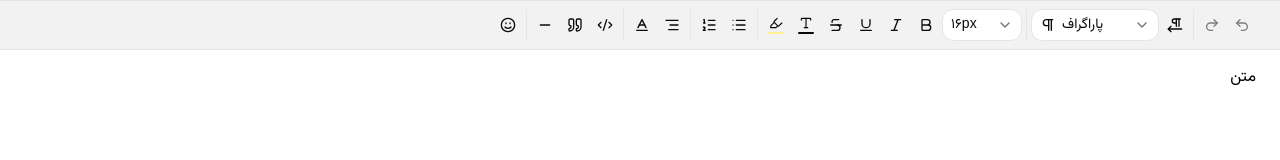
Test: NoteBodyEditor tooltips › names the alignment action in its tooltip
Hover over the button named "تراز متن" at x=672, y=25, box [658, 11, 686, 39]
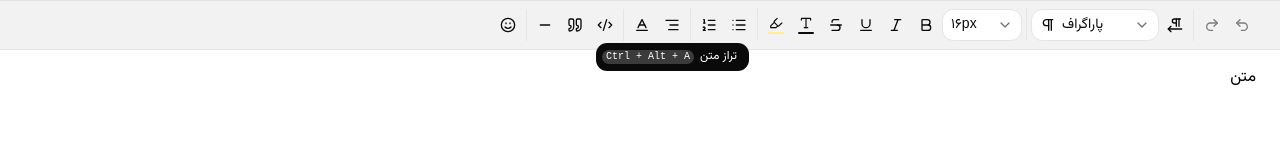
Now the tooltip shows "تراز متن", box [700, 48, 737, 65]
